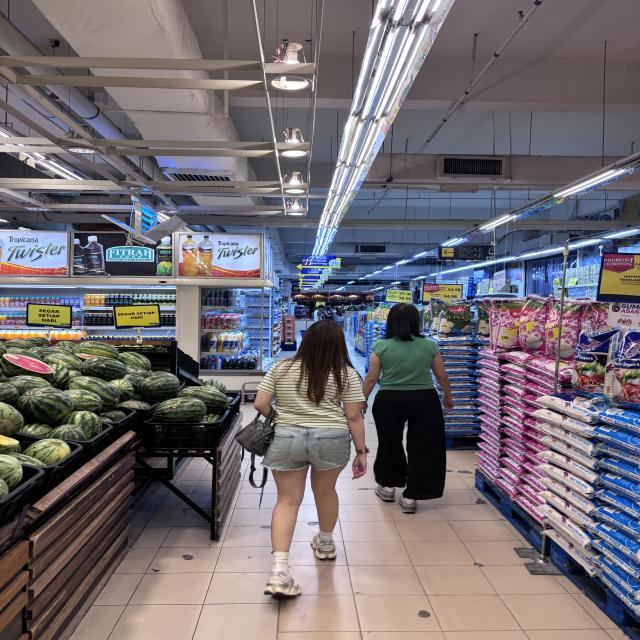Person: (234, 314, 372, 608), (357, 294, 459, 519)
